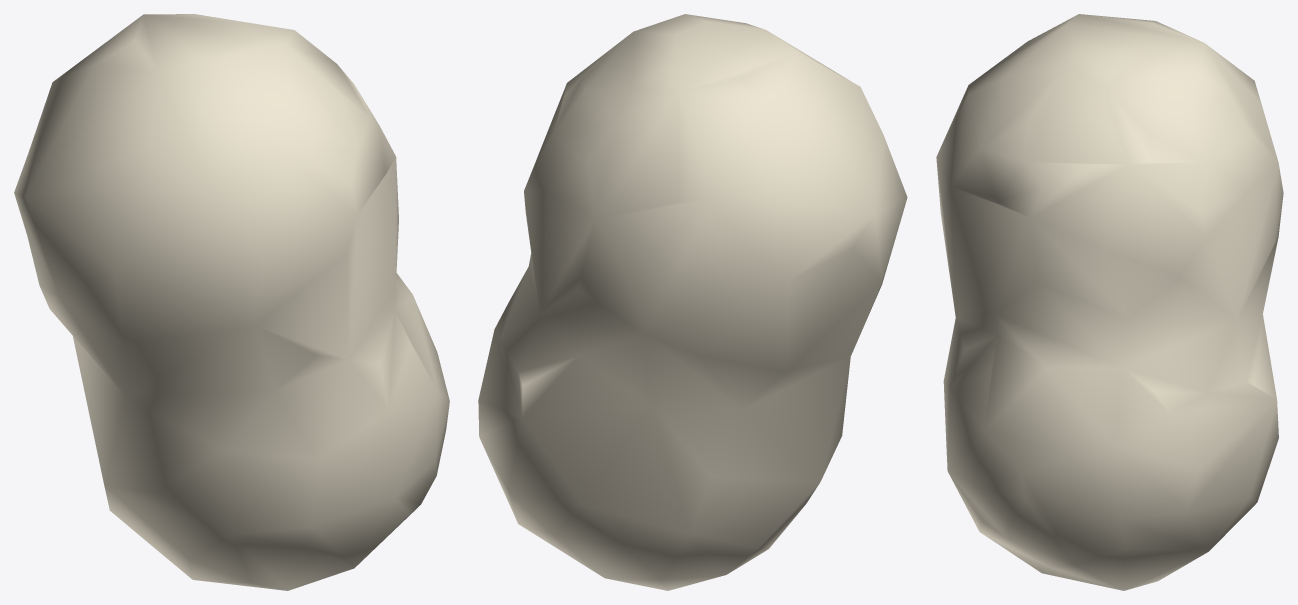
The model's file is caudal_11.glb.
3 views of the same model, side by side, from view 1: azimuth 30°, elevation 25°; view 2: azimuth 150°, elevation 25°; view 3: azimuth 270°, elevation 25° (orthographic). The views are drawn at different scales.
Visible parts, largest first — view 1: geometry_0; view 2: geometry_0; view 3: geometry_0.
Boxes of the visible parts, x1,y1,x2,y2 form: geometry_0: (14,14,449,590); geometry_0: (478,14,907,590); geometry_0: (936,14,1283,590).
Size of the model in its own units: 0.0323 by 0.0439 by 0.0269.
